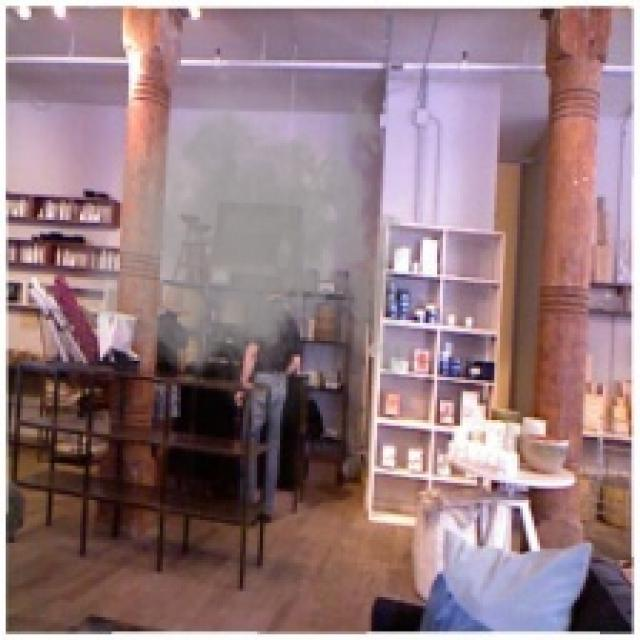smoke: (77, 40, 423, 437)
